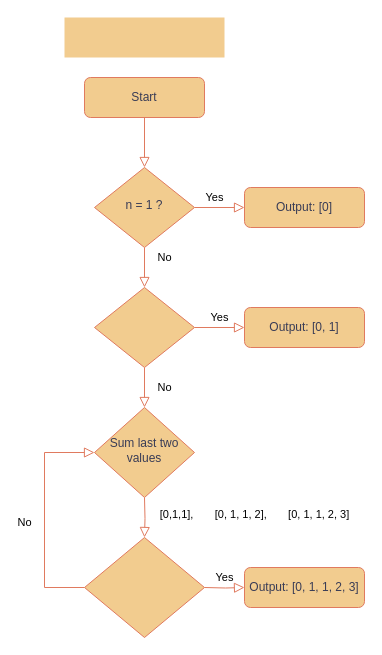
Image size: 382x655. Some labels were removed from this diagram. The shapes that lost their labels are listed below. From the top down, each one's centre as x and y in pixels, then its label:
the point at 144,37: fibonacciGenerator(5);
the point at 144,327: n = 2 ?
the point at 144,587: Does n equal number of items in output?
